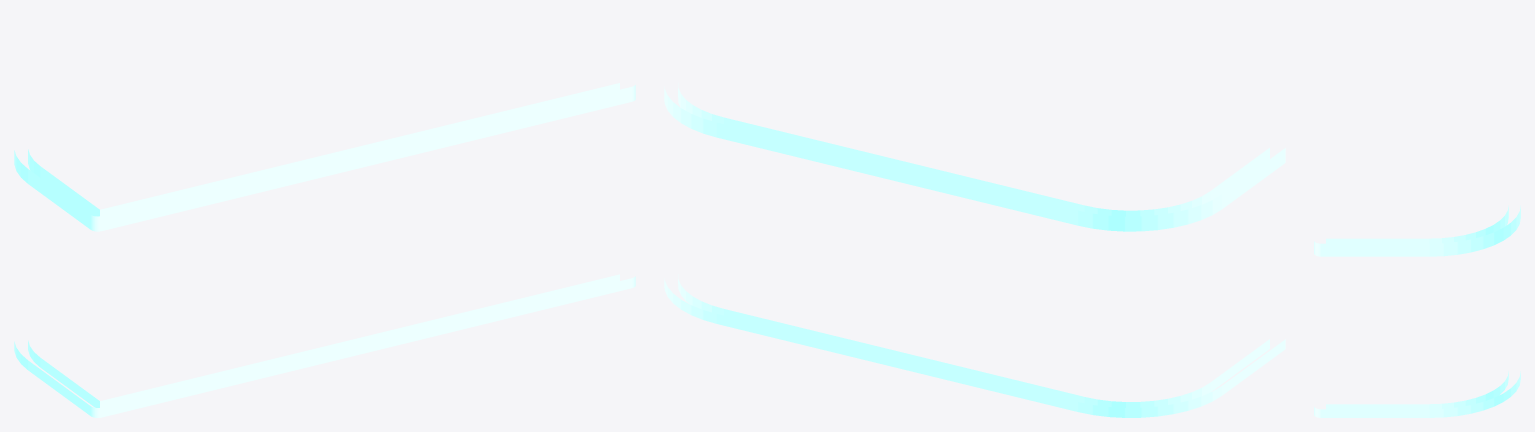
File: strip_t.glb
The picture shows the model from 3 angles, left to right: view 1: azimuth 30°, elevation 25°; view 2: azimuth 150°, elevation 25°; view 3: azimuth 270°, elevation 25°; orthographic projection. The views are drawn at different scales.
Visible parts, largest first — view 1: strip; view 2: strip; view 3: strip.
Boxes of the visible parts, <box> form: strip: <box>14,83,635,417</box>; strip: <box>664,83,1285,417</box>; strip: <box>1314,205,1520,417</box>.
Size of the model in its own units: 2.26 by 0.8 by 0.86.
